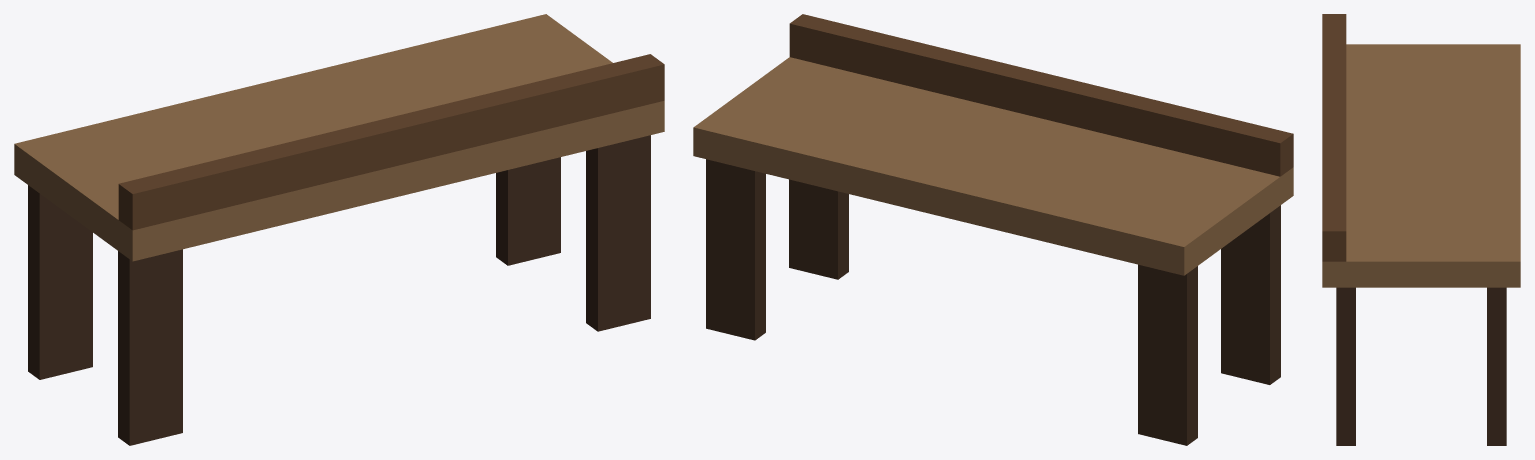
The model's file is SM_Wood_Bench_B.glb.
3 views of the same model, side by side, from view 1: azimuth 30°, elevation 25°; view 2: azimuth 150°, elevation 25°; view 3: azimuth 270°, elevation 25° (orthographic). The views are drawn at different scales.
Parts seen in each view (by area): view 1: SM_Wood_Bench_B; view 2: SM_Wood_Bench_B; view 3: SM_Wood_Bench_B.
Part boxes in pixels (<box>): SM_Wood_Bench_B: <box>14,14,664,445</box>; SM_Wood_Bench_B: <box>693,14,1293,445</box>; SM_Wood_Bench_B: <box>1322,14,1520,445</box>.
Size of the model in its own units: 1.28 by 0.594 by 0.492.
Materials: 1 (1 with a texture image).
